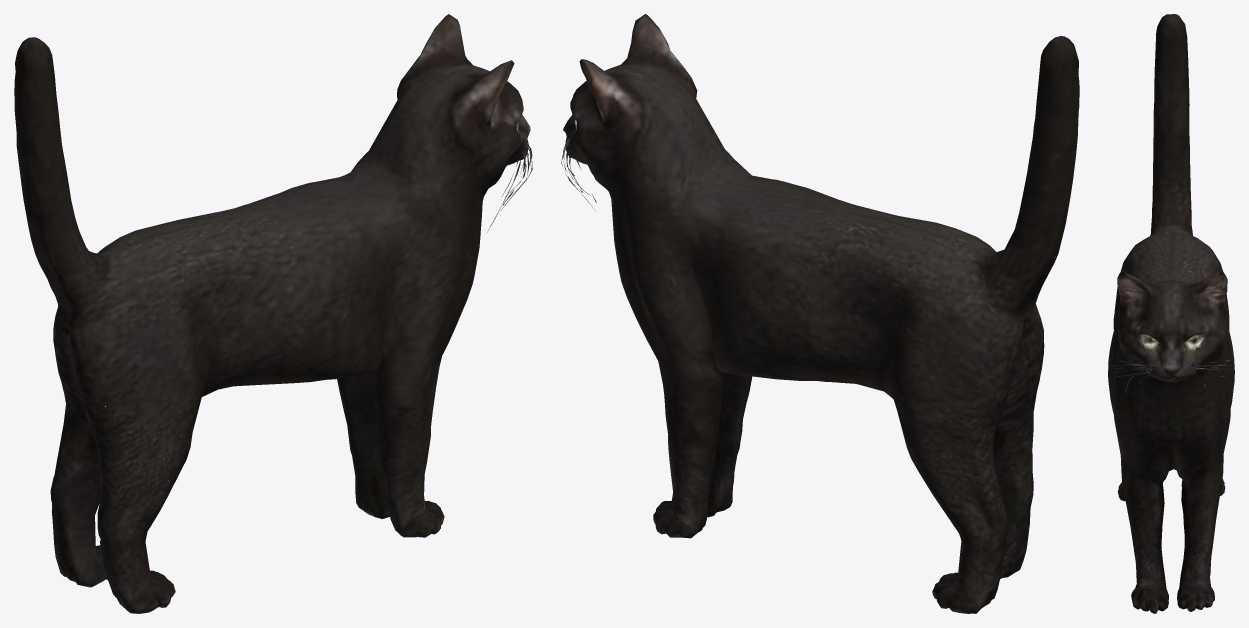
The model's file is RURUNEKO-lo.glb.
3 views of the same model, side by side, from view 1: azimuth 30°, elevation 25°; view 2: azimuth 150°, elevation 25°; view 3: azimuth 270°, elevation 25° (orthographic). The views are drawn at different scales.
Visible parts, largest first — view 1: tripo_node_effda70c-30be-43cc-a804-84d27fdd0b70; view 2: tripo_node_effda70c-30be-43cc-a804-84d27fdd0b70; view 3: tripo_node_effda70c-30be-43cc-a804-84d27fdd0b70.
Boxes of the visible parts, bbox=[...] form: tripo_node_effda70c-30be-43cc-a804-84d27fdd0b70: bbox=[14, 14, 532, 613]; tripo_node_effda70c-30be-43cc-a804-84d27fdd0b70: bbox=[561, 14, 1079, 613]; tripo_node_effda70c-30be-43cc-a804-84d27fdd0b70: bbox=[1108, 14, 1234, 613].
Bounding box in the file's own units: 0.9327 × 0.9997 × 0.2552.
Materials: 1 (1 with a texture image).
